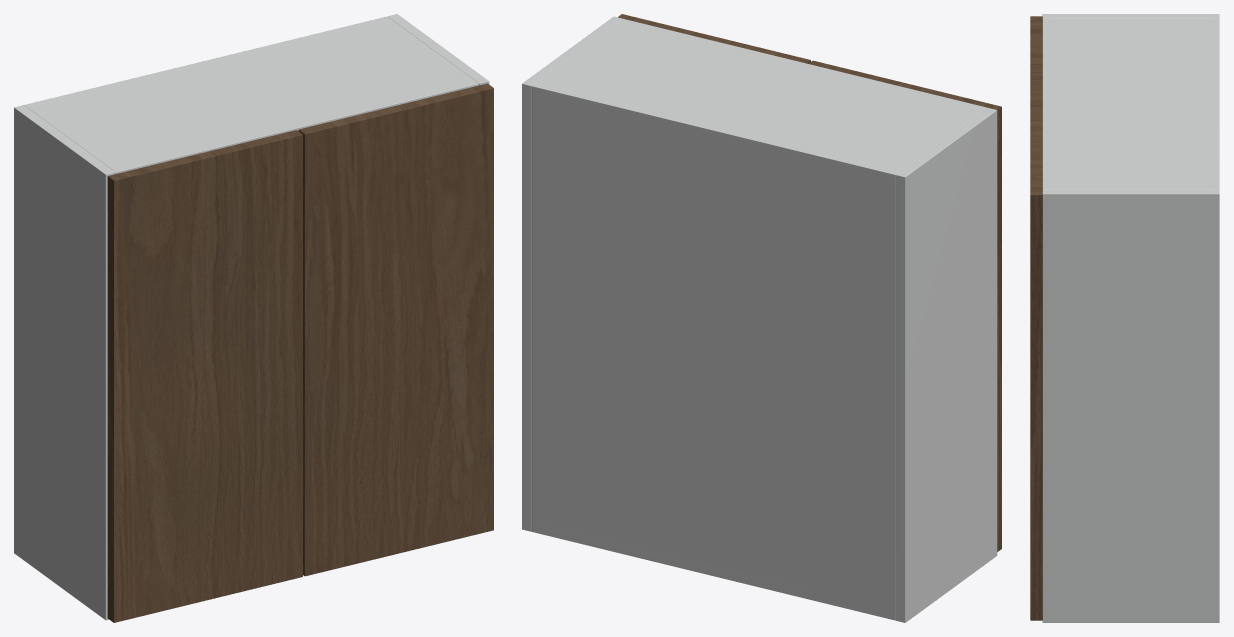
Rendered from oppein-ply-mso-w2730.glb.
3 renders of one model, left to right at view 1: azimuth 30°, elevation 25°; view 2: azimuth 150°, elevation 25°; view 3: azimuth 270°, elevation 25°, orthographic. The views are drawn at different scales.
Parts seen in each view (by area): view 1: Door, Door.001, Cabinet side, Cabinet top, Cabinet back, Cabinet side.001; view 2: Cabinet back, Cabinet side, Cabinet top, Cabinet side.001, Door, Cabinet bottom, Door.001; view 3: Cabinet side.001, Cabinet top, Door.001, Cabinet back, Door, Cabinet side.
Part boxes in pixels (x1,y1,x2,y2): Door: [107, 130, 302, 622]; Door.001: [298, 83, 493, 576]; Cabinet side: [14, 105, 115, 620]; Cabinet top: [24, 19, 478, 173]; Cabinet back: [25, 16, 389, 107]; Cabinet side.001: [388, 14, 489, 85]; Cabinet back: [532, 83, 898, 620]; Cabinet side: [895, 107, 997, 622]; Cabinet top: [532, 19, 986, 184]; Cabinet side.001: [522, 16, 623, 531]; Door: [808, 60, 1001, 551]; Cabinet bottom: [532, 522, 892, 619]; Door.001: [618, 14, 810, 63]; Cabinet side.001: [1042, 189, 1219, 622]; Cabinet top: [1042, 18, 1219, 189]; Door.001: [1030, 106, 1042, 620]; Cabinet back: [1212, 18, 1219, 189]; Door: [1030, 16, 1042, 105]; Cabinet side: [1042, 14, 1219, 18].
Size of the model in its own units: 0.6858 by 0.762 by 0.3048.
Materials: 2 (1 with a texture image).
